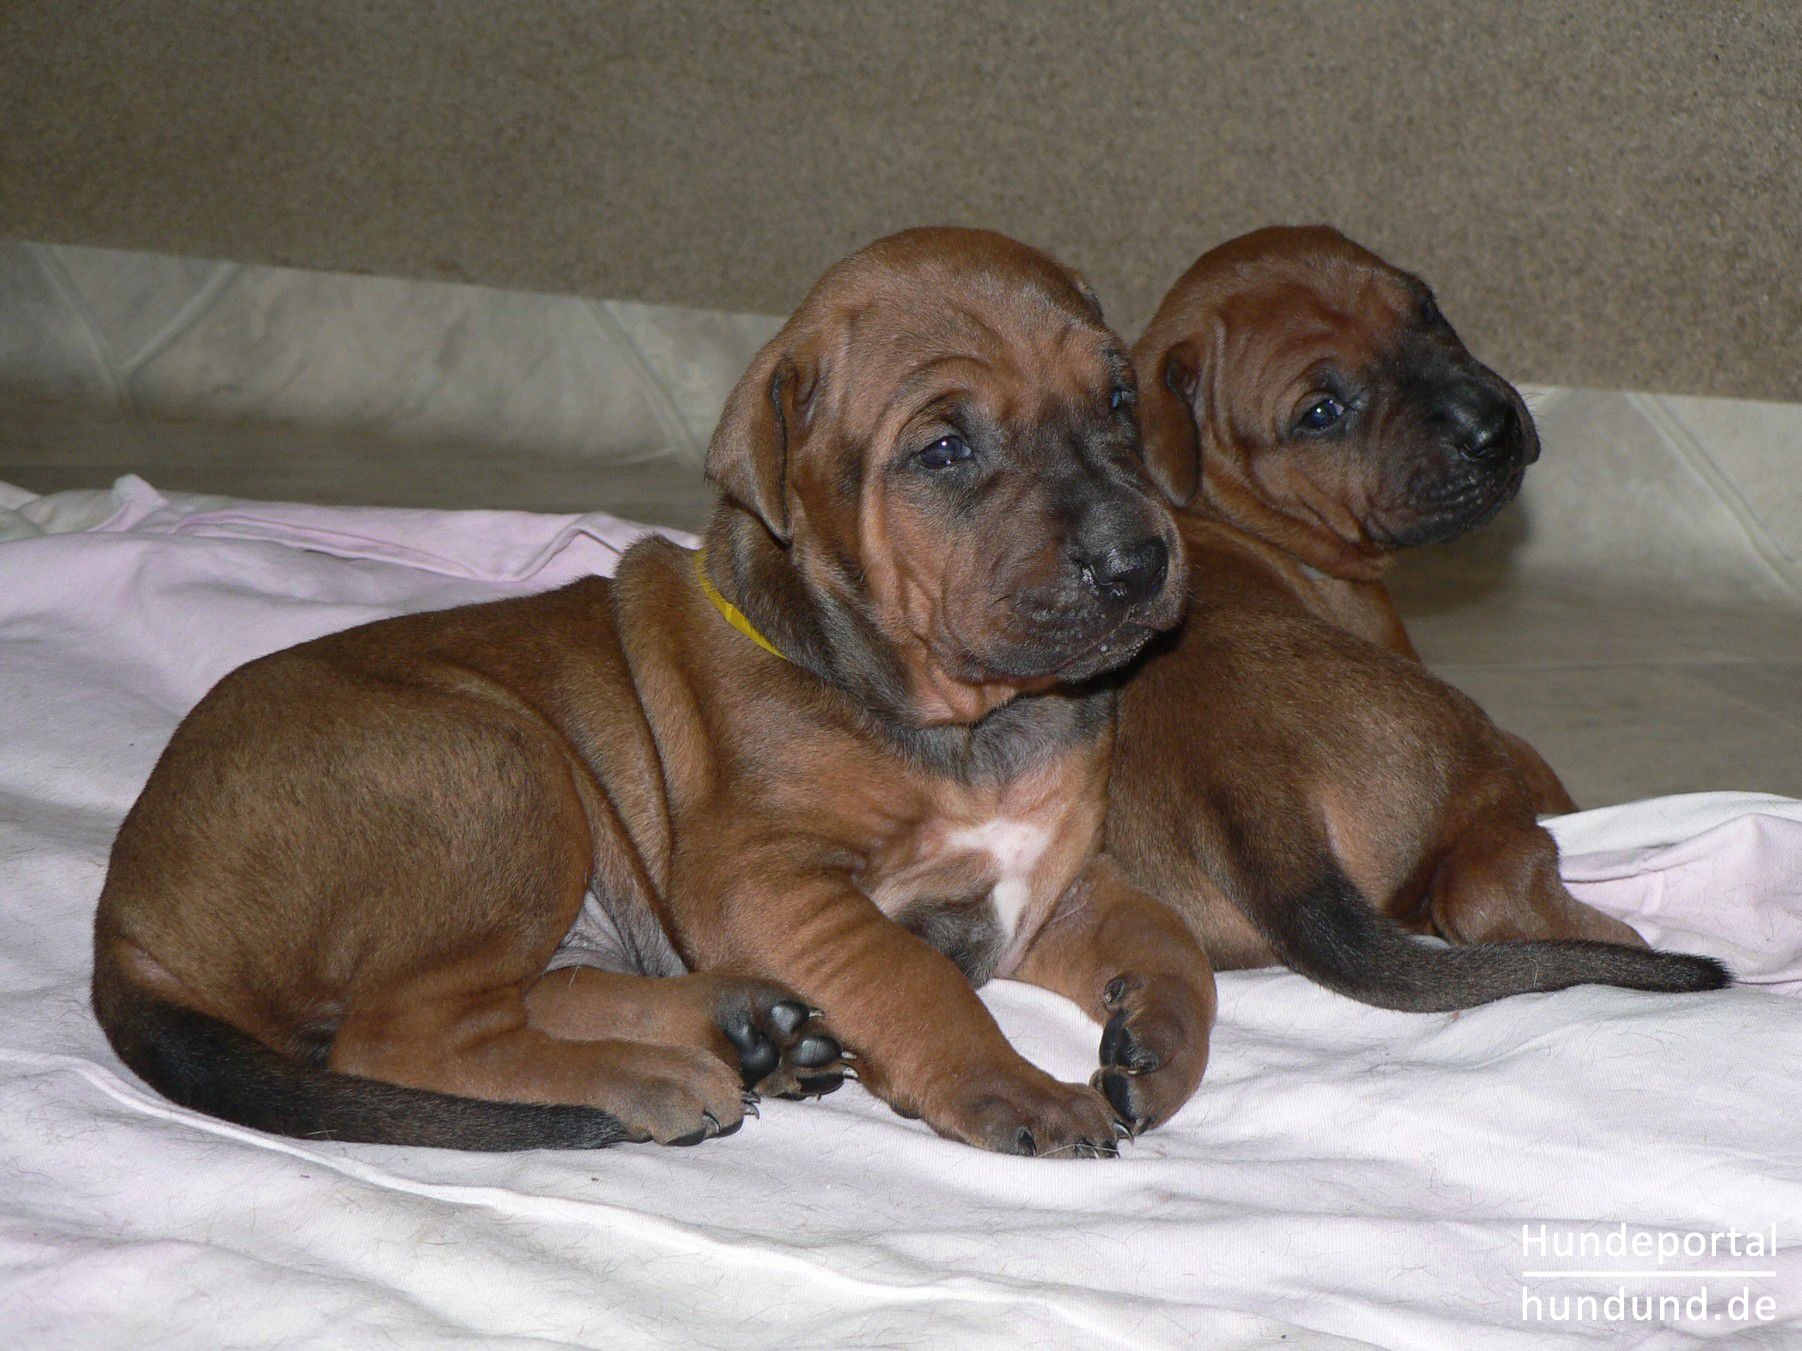tosa_inu: (82, 220, 1219, 1159), (1101, 216, 1740, 1019)
